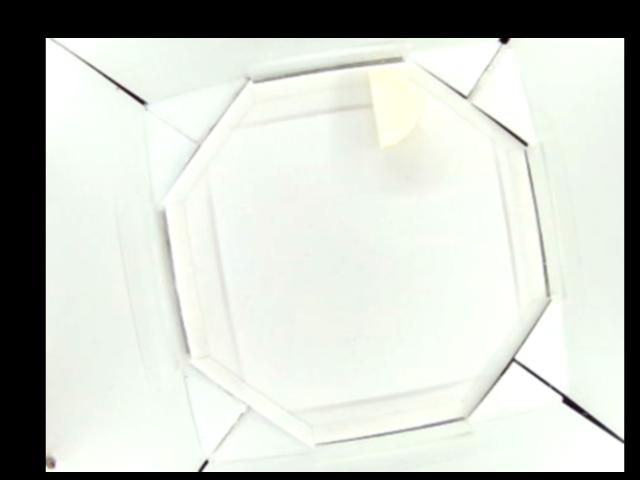Mooli: (367, 66, 418, 151)
